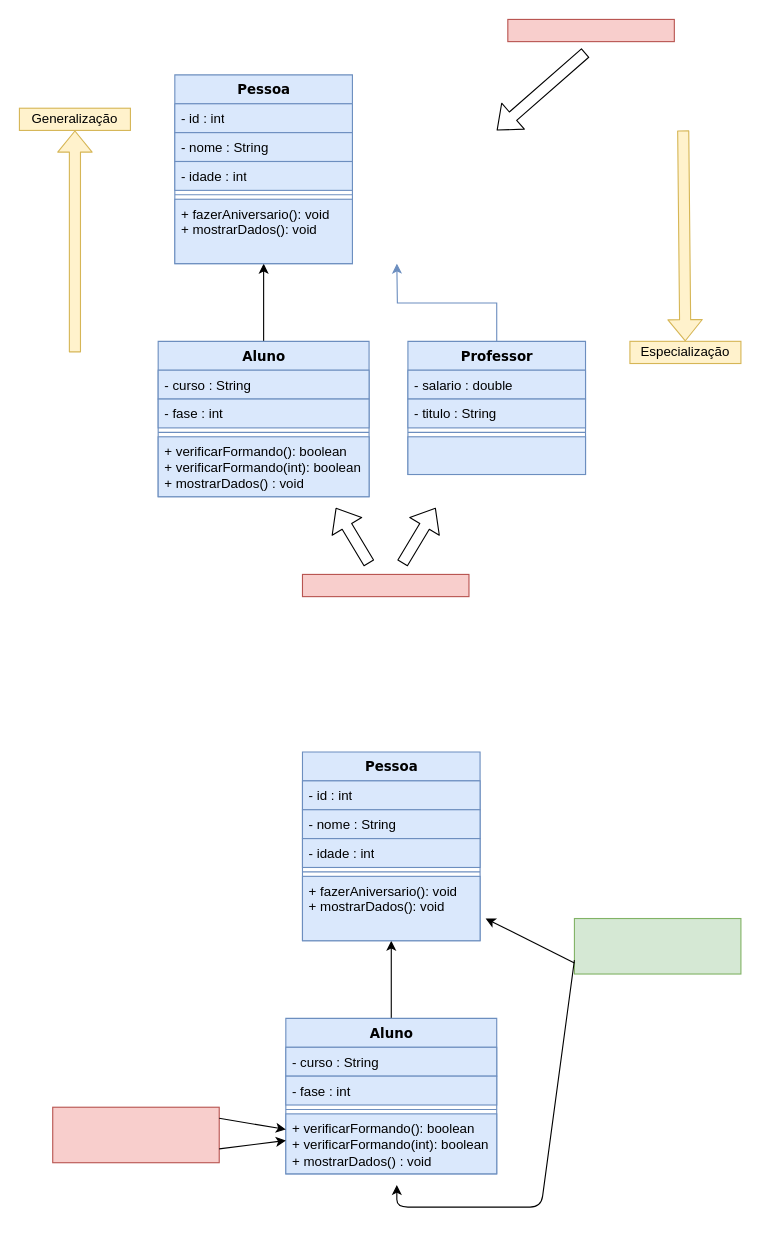
Some shapes in this 760 by 1235 pixel diagram are drawn without their labels. Here are the shapes that lost their labels. From the top down, the centre of each, then its label:
(x=590, y=30): SUPERCLASSE
(x=496, y=455): + calcularImposto(): double
(x=385, y=585): SUBCLASSE
(x=657, y=945): OverRiding mostrarDados()
(x=135, y=1134): OverLoading verificarFormando()
